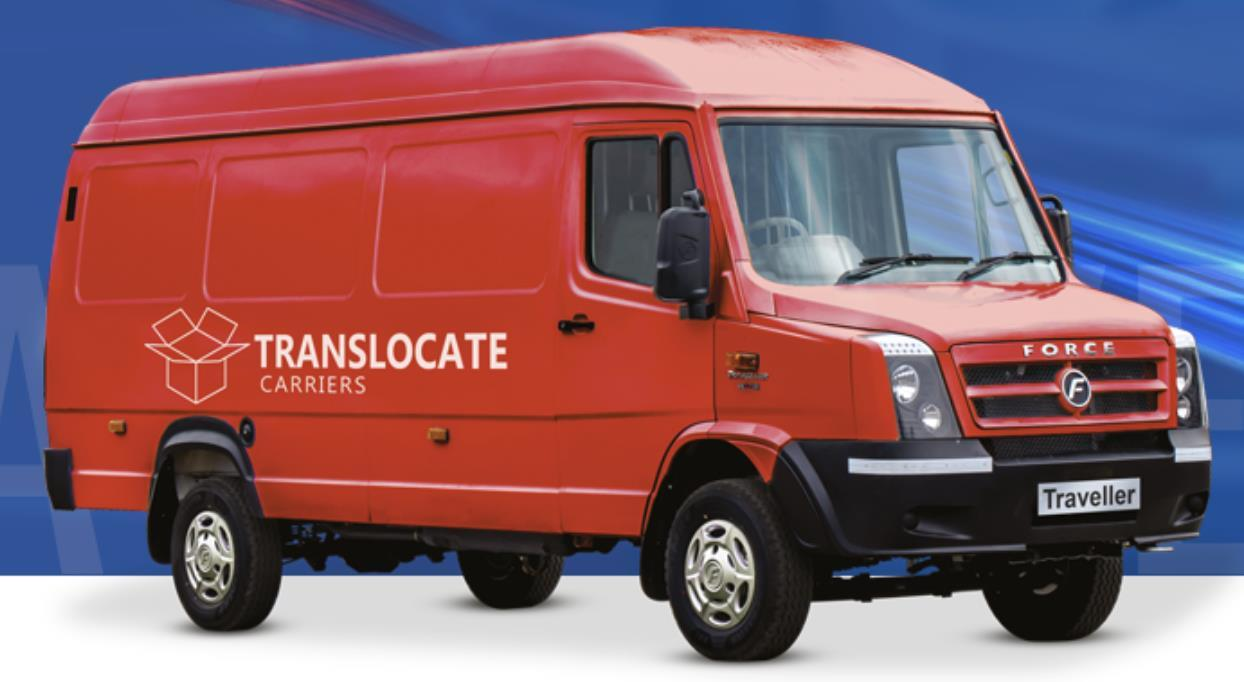van: (42, 23, 1213, 663)
